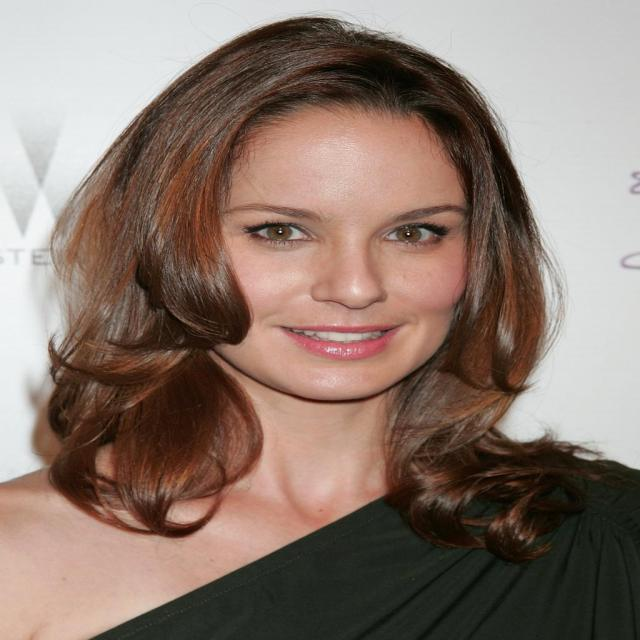nomask: (203, 106, 481, 398)
